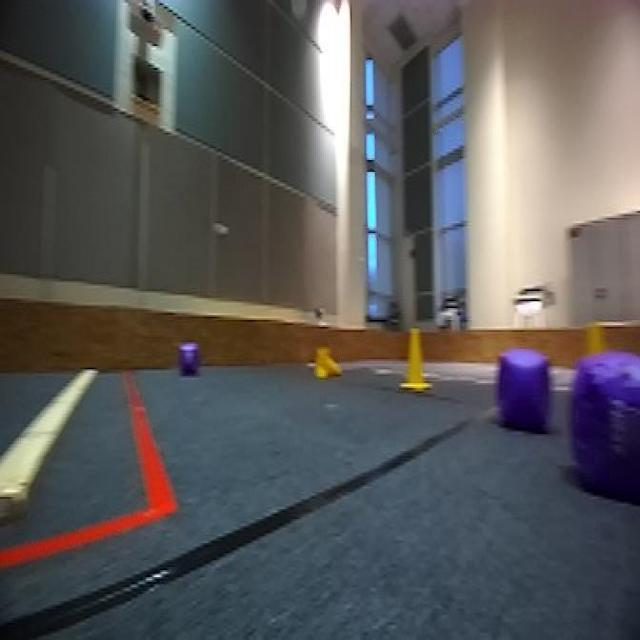frc_cone: (398, 325, 431, 395), (312, 346, 341, 380)
frc_cube: (565, 347, 640, 507), (492, 339, 558, 432), (176, 342, 201, 381)
